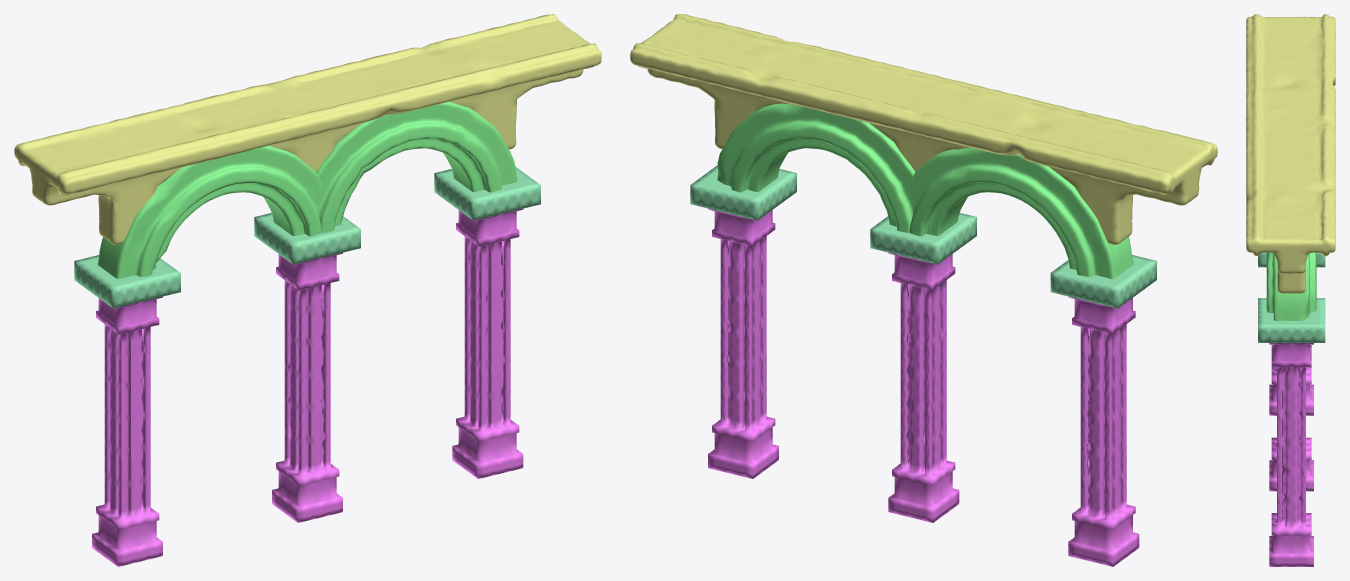
The model's file is arch01.fbx.
The picture shows the model from 3 angles, left to right: view 1: azimuth 30°, elevation 25°; view 2: azimuth 150°, elevation 25°; view 3: azimuth 270°, elevation 25°; orthographic projection. The views are drawn at different scales.
Visible parts, largest first — view 1: pCube12_copy3, pasted__pasted__pCube7, pCylinder6, pCube8; view 2: pCube12_copy3, pasted__pasted__pCube7, pCylinder6, pCube8; view 3: pCube12_copy3, pasted__pasted__pCube7, pCube8, pCylinder6.
Part boxes in pixels (bbox=[...]): pCube12_copy3: bbox=[14, 14, 601, 244]; pasted__pasted__pCube7: bbox=[92, 209, 523, 566]; pCylinder6: bbox=[97, 101, 517, 279]; pCube8: bbox=[74, 166, 540, 308]; pCube12_copy3: bbox=[630, 14, 1217, 244]; pasted__pasted__pCube7: bbox=[708, 208, 1139, 566]; pCylinder6: bbox=[717, 103, 1133, 278]; pCube8: bbox=[690, 165, 1156, 308]; pCube12_copy3: bbox=[1246, 14, 1335, 293]; pasted__pasted__pCube7: bbox=[1269, 343, 1313, 566]; pCube8: bbox=[1258, 252, 1325, 342]; pCylinder6: bbox=[1266, 252, 1316, 320].
Bounding box in the file's own units: 11.96 × 8.79 × 2.
